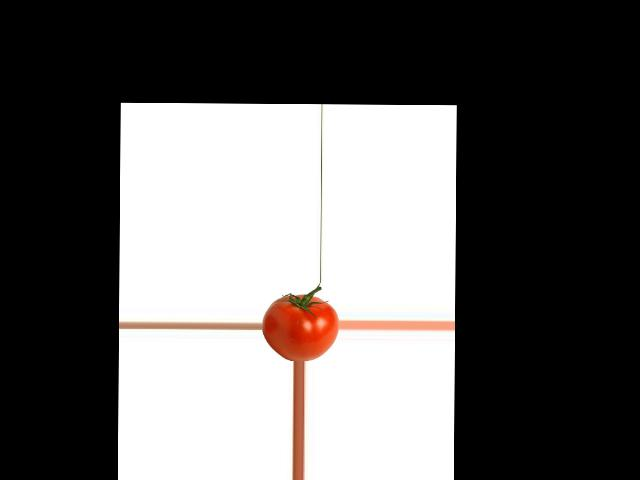tomato: (261, 293, 338, 360)
